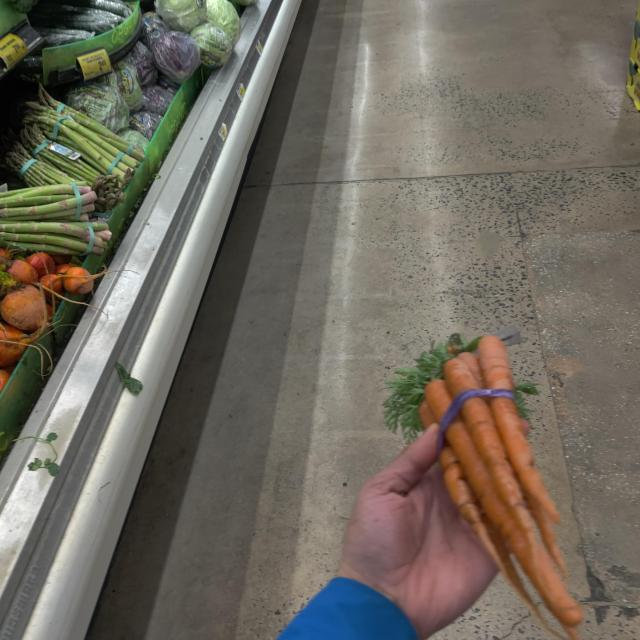Carrots: (376, 314, 603, 638)
